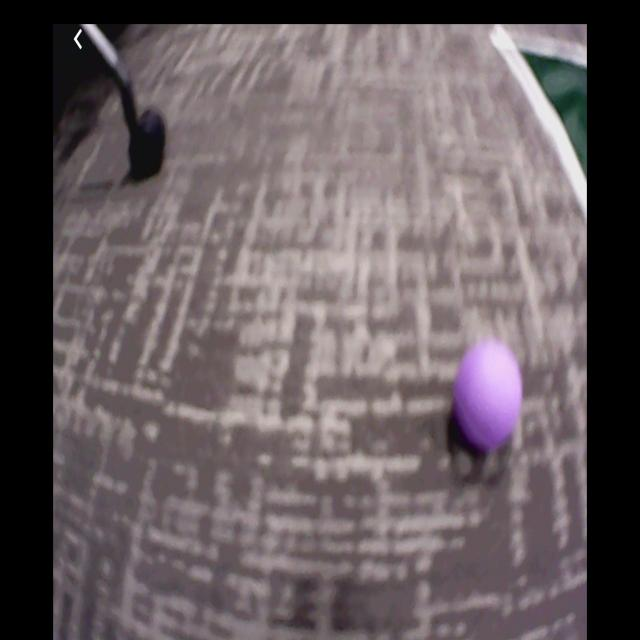ball: (451, 338, 525, 456)
